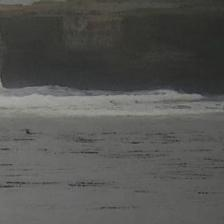surfer: (25, 129, 33, 135)
